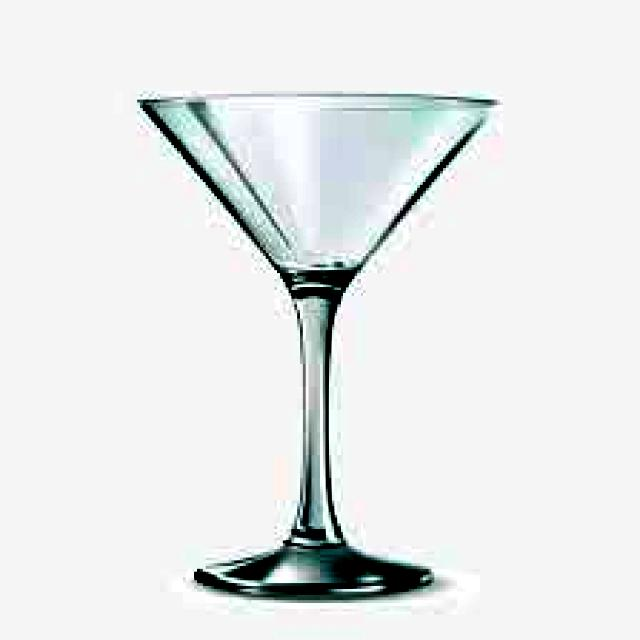Glass: (130, 81, 513, 611)
